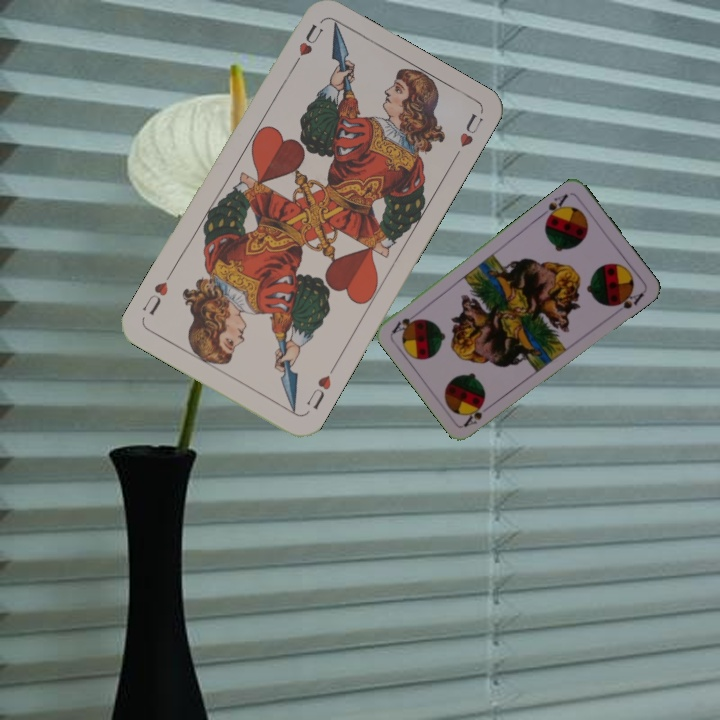HU: (288, 20, 326, 72), (302, 371, 334, 412)
SA: (537, 190, 571, 224), (460, 400, 487, 429)
